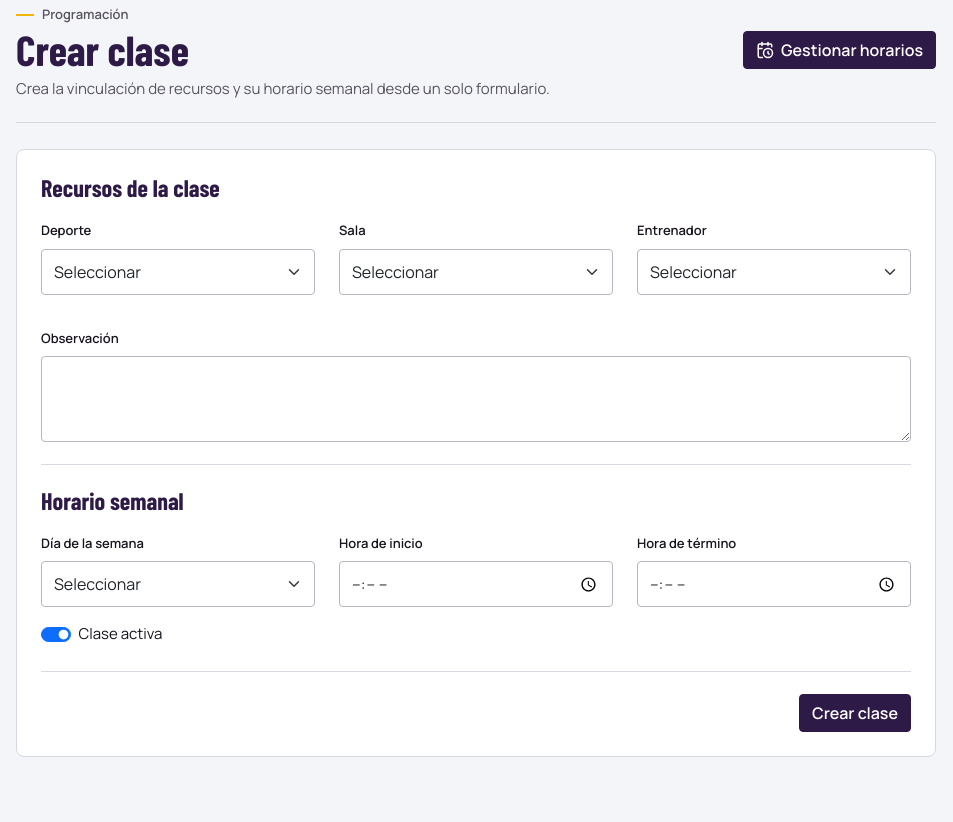
Test case: AdminClassCreatePage › shows validation errors without creating a class
Click the button "Crear clase". click: (855, 713)
box: left=799, top=694, right=911, bottom=732
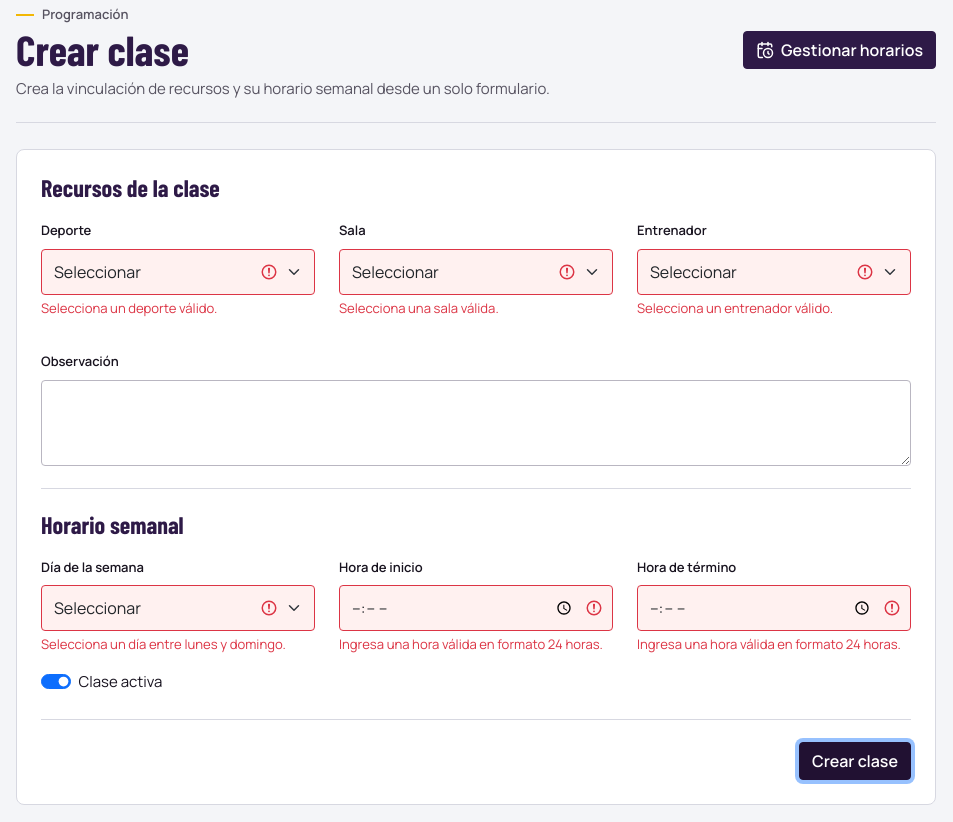
Expected: the text "Selecciona un deporte válido." is shown, left=41, top=298, right=217, bottom=316
